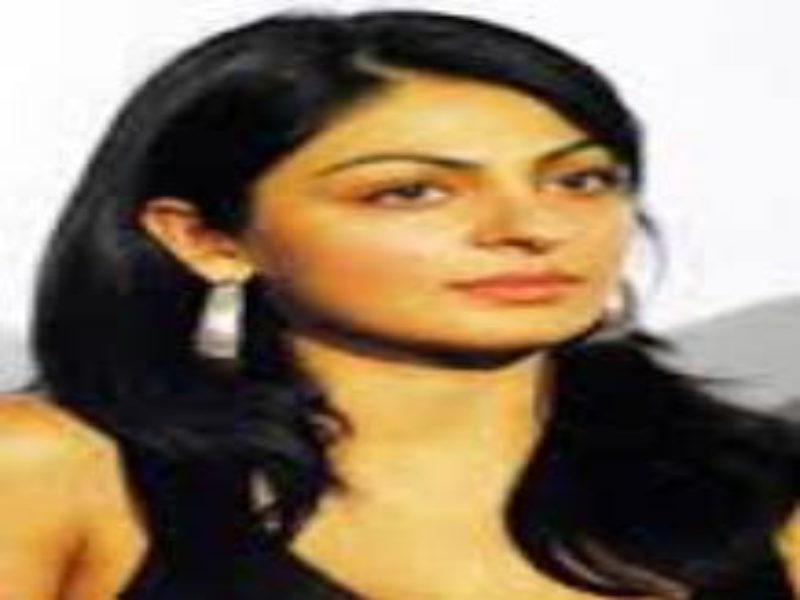TsisyArotava: (230, 17, 689, 408)
